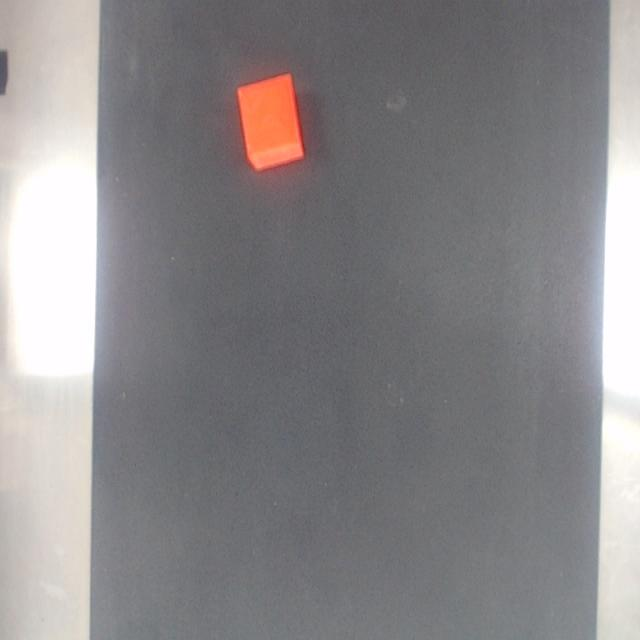Rojo: (237, 73, 304, 171)
